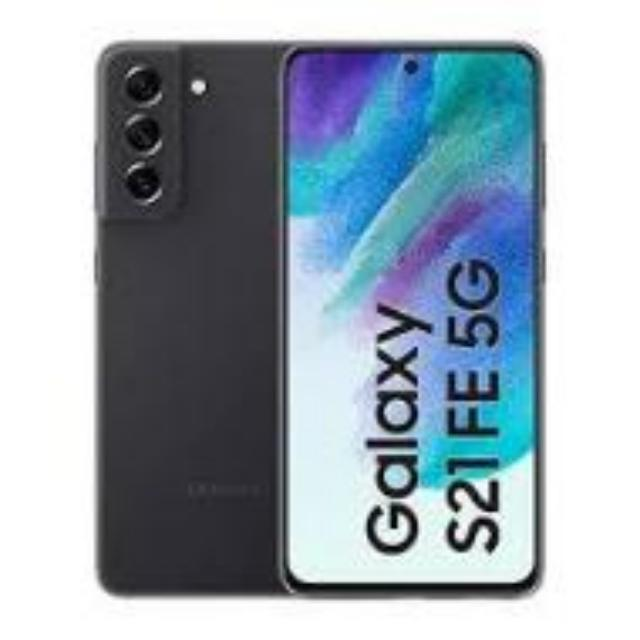phone: (282, 37, 552, 594)
